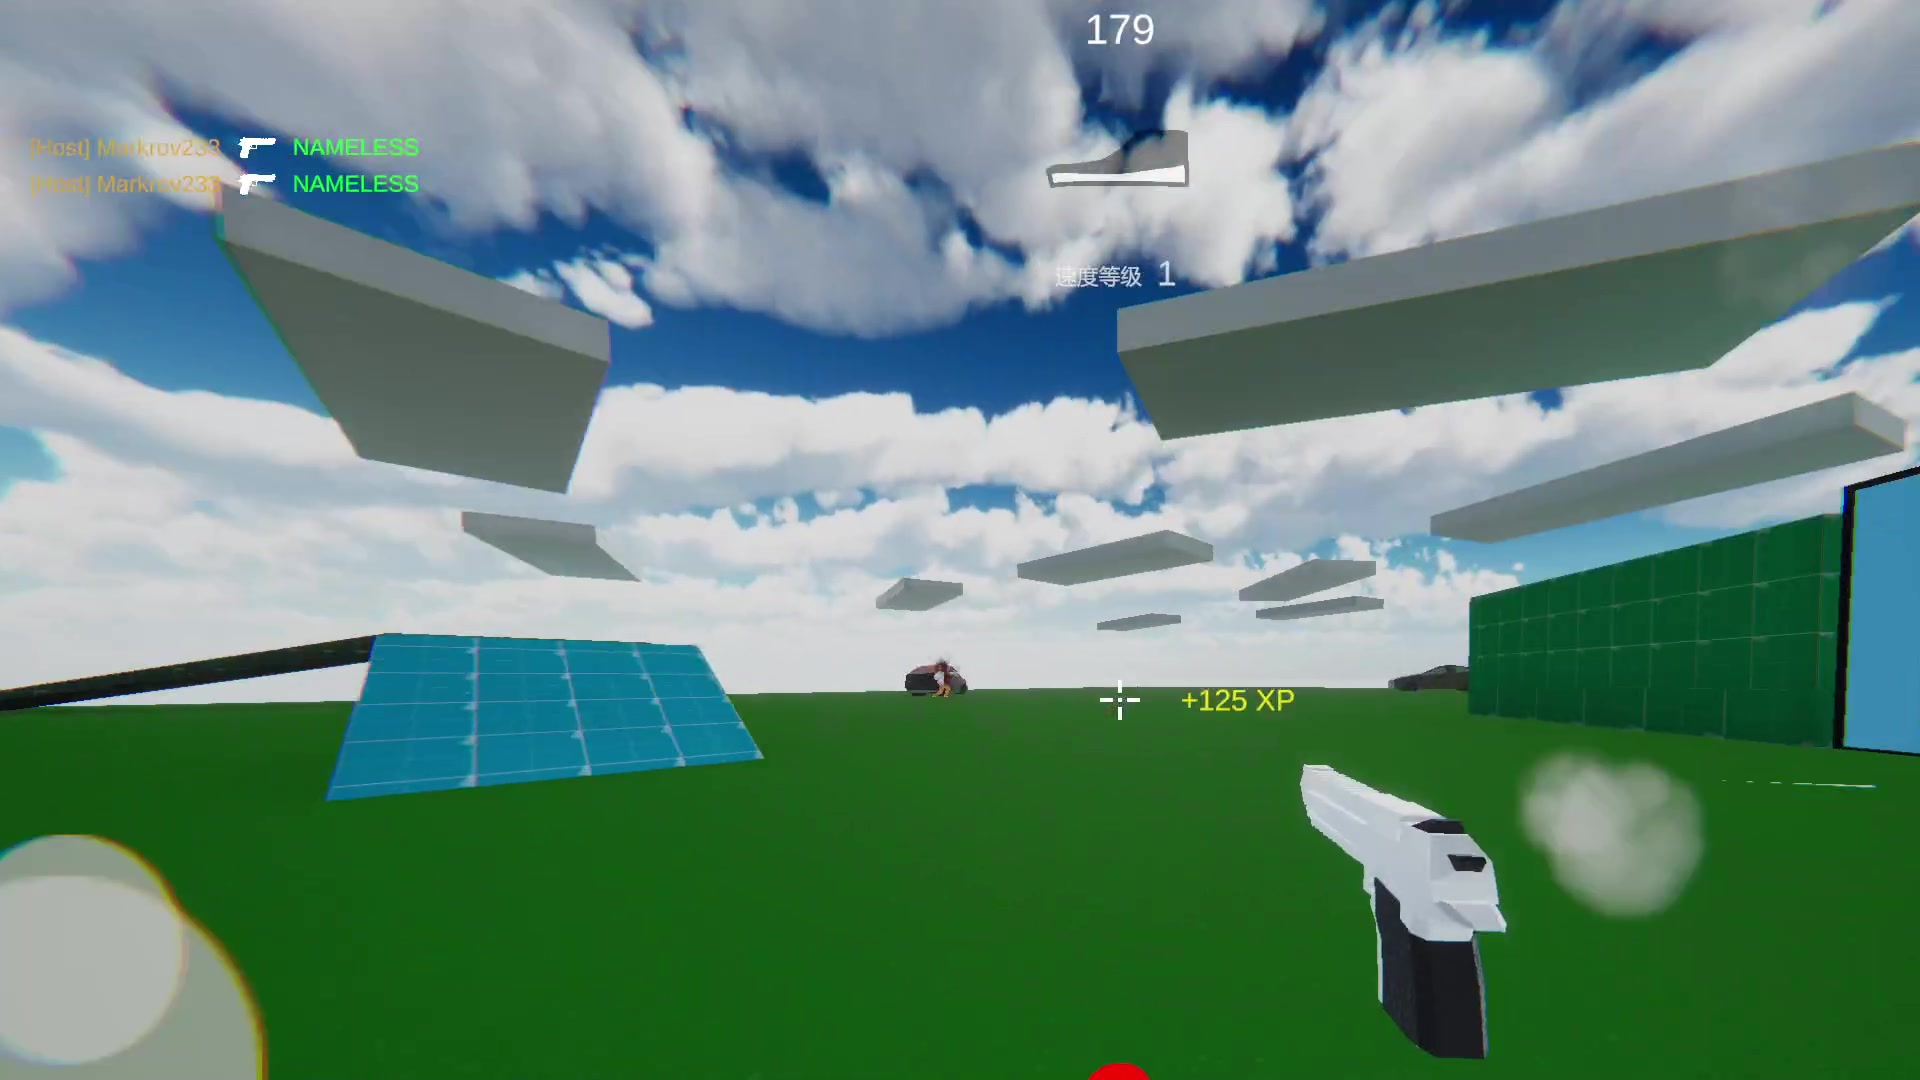human: (935, 666, 953, 695)
